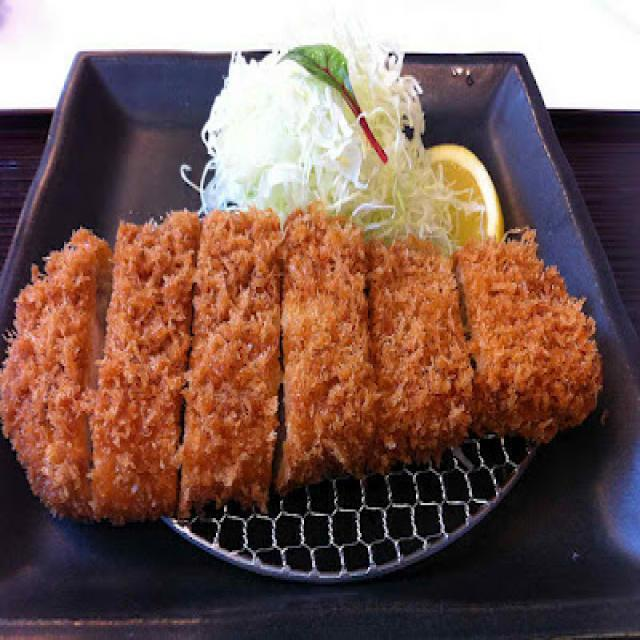cac loai rau cu: (195, 35, 501, 232)
thit heo: (4, 211, 623, 519)
thit heo chien xu tonkatsu: (10, 42, 616, 525)
